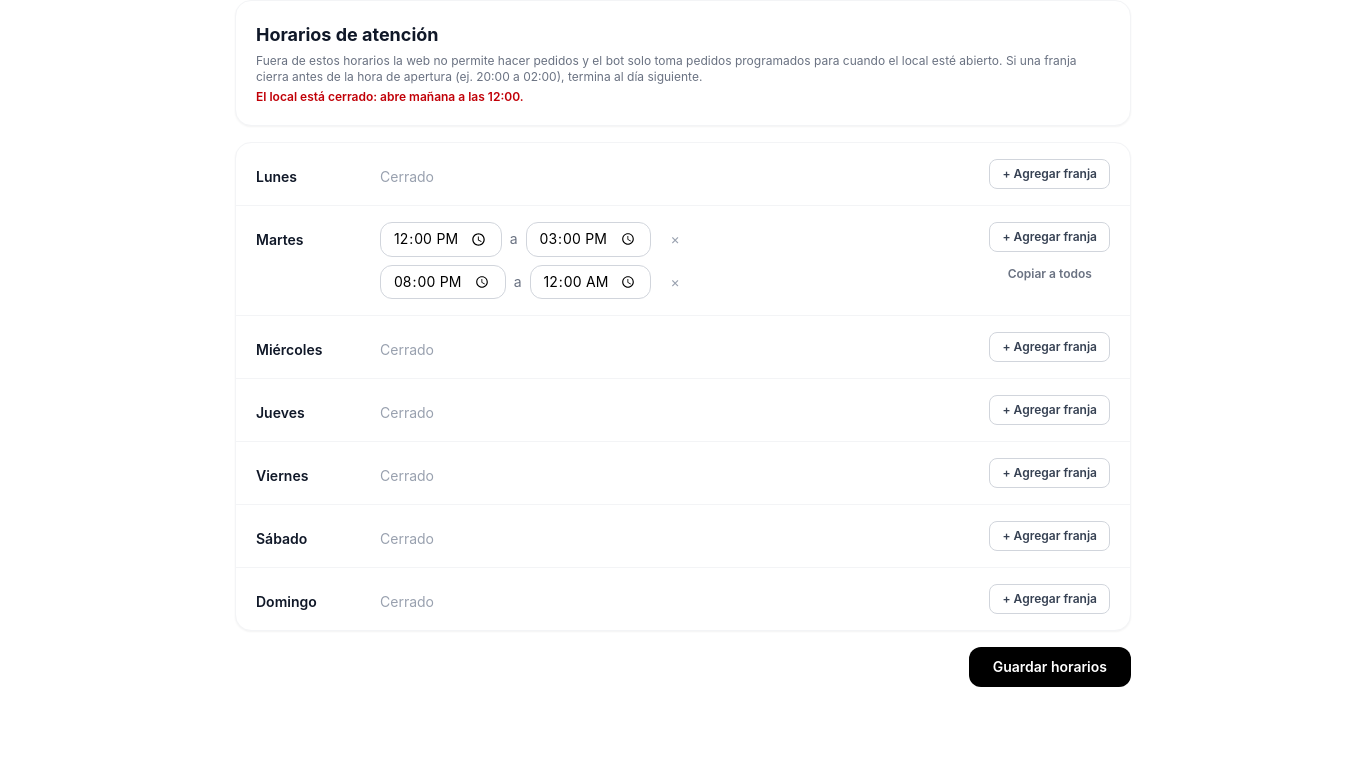
Test case: HorariosView › agrega, edita y quita franjas y guarda la semana completa
Expected: the element "Martes" is shown, [236,206,1130,316]
Click the button with aria-label "Agregar franja al viernes" at (1050, 473), box [990,458,1110,488]
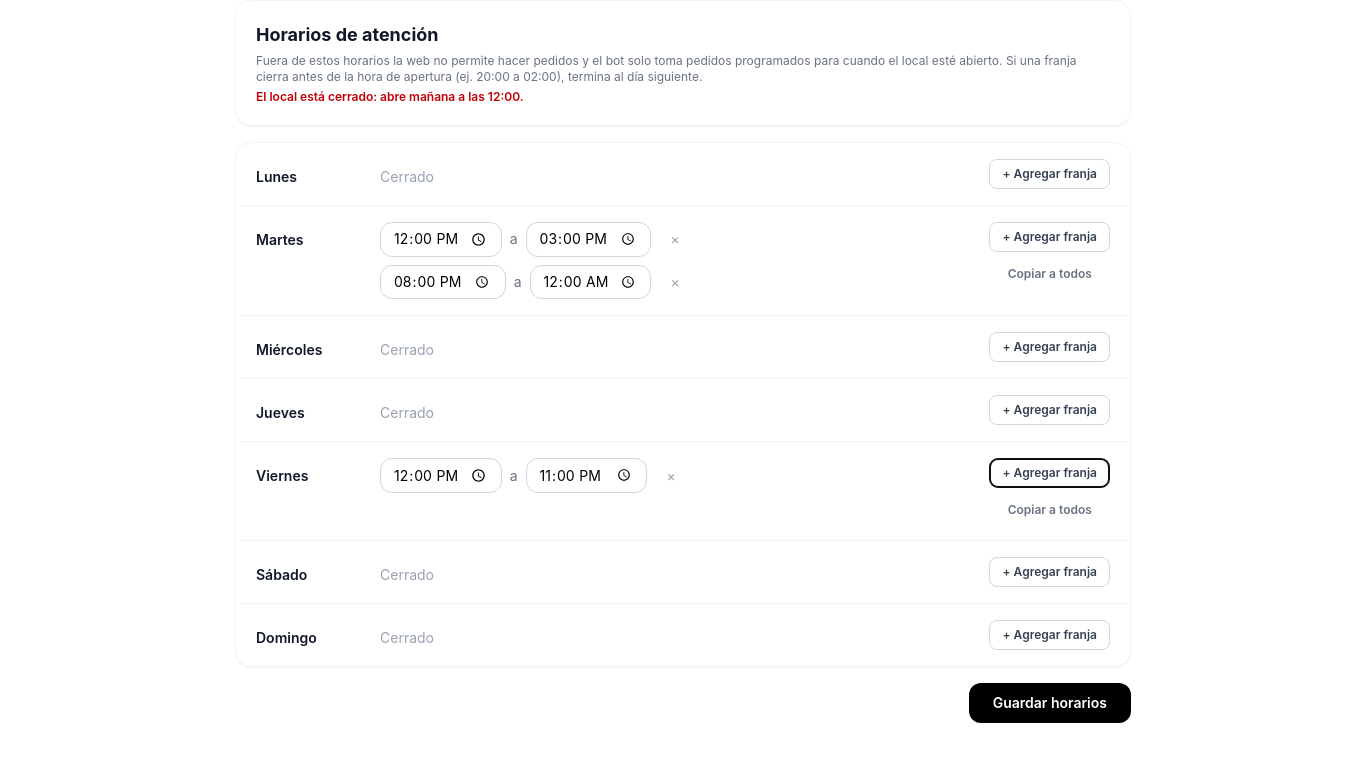
Replace the text in the time field named "Viernes: apertura de la franja 1" with "20:00" at (441, 476), box [380,458,502,493]
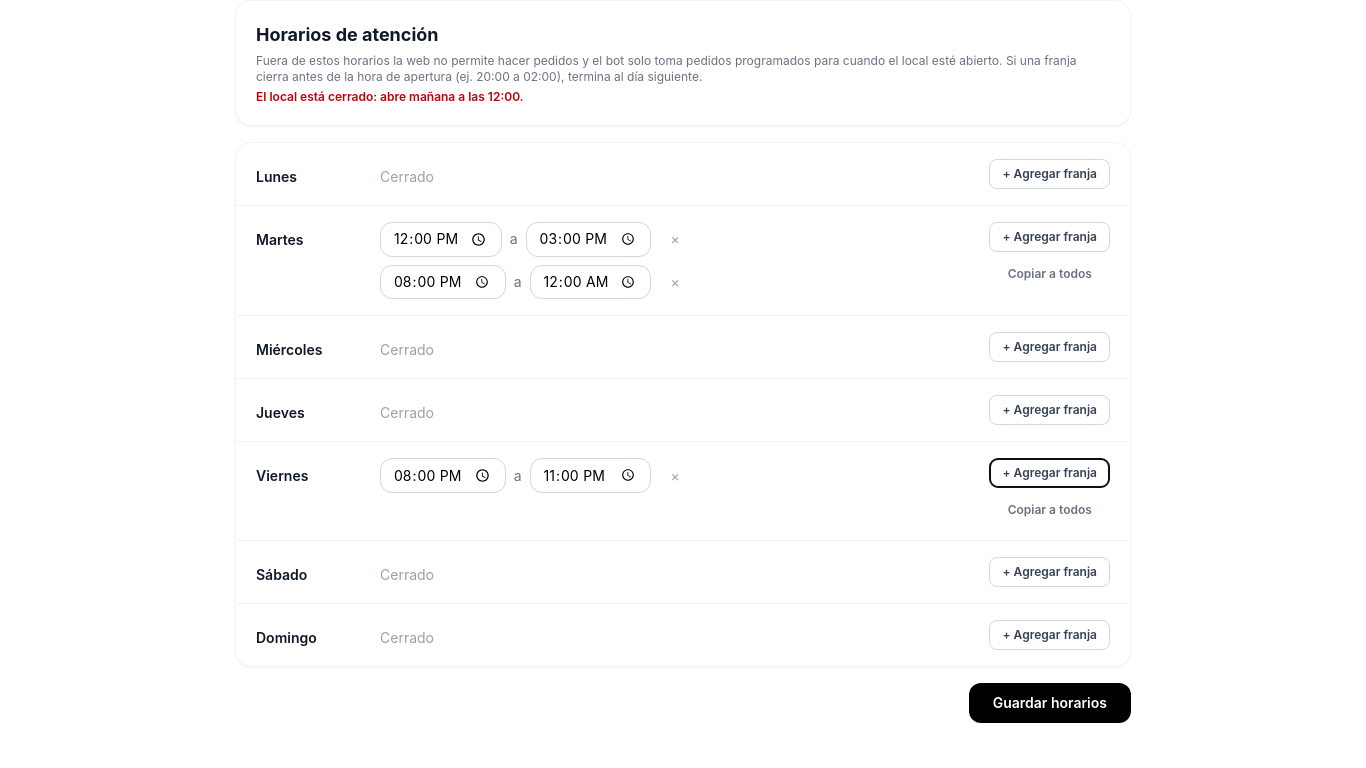
Replace the text in the time field named "Viernes: cierre de la franja 1" with "02:00" at (590, 476), box [530,458,651,493]
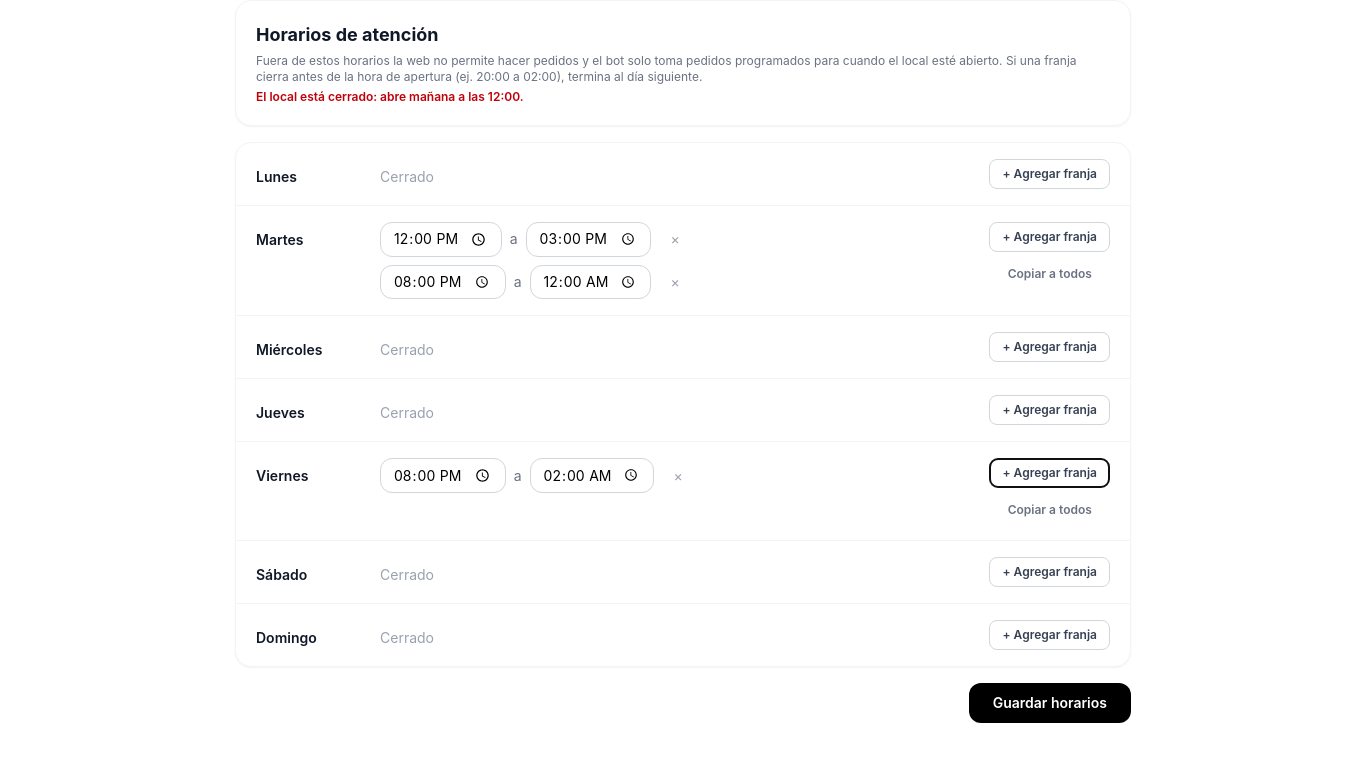
Click the button named "Quitar la franja 2 del martes" at (675, 282), box [659,266,691,298]
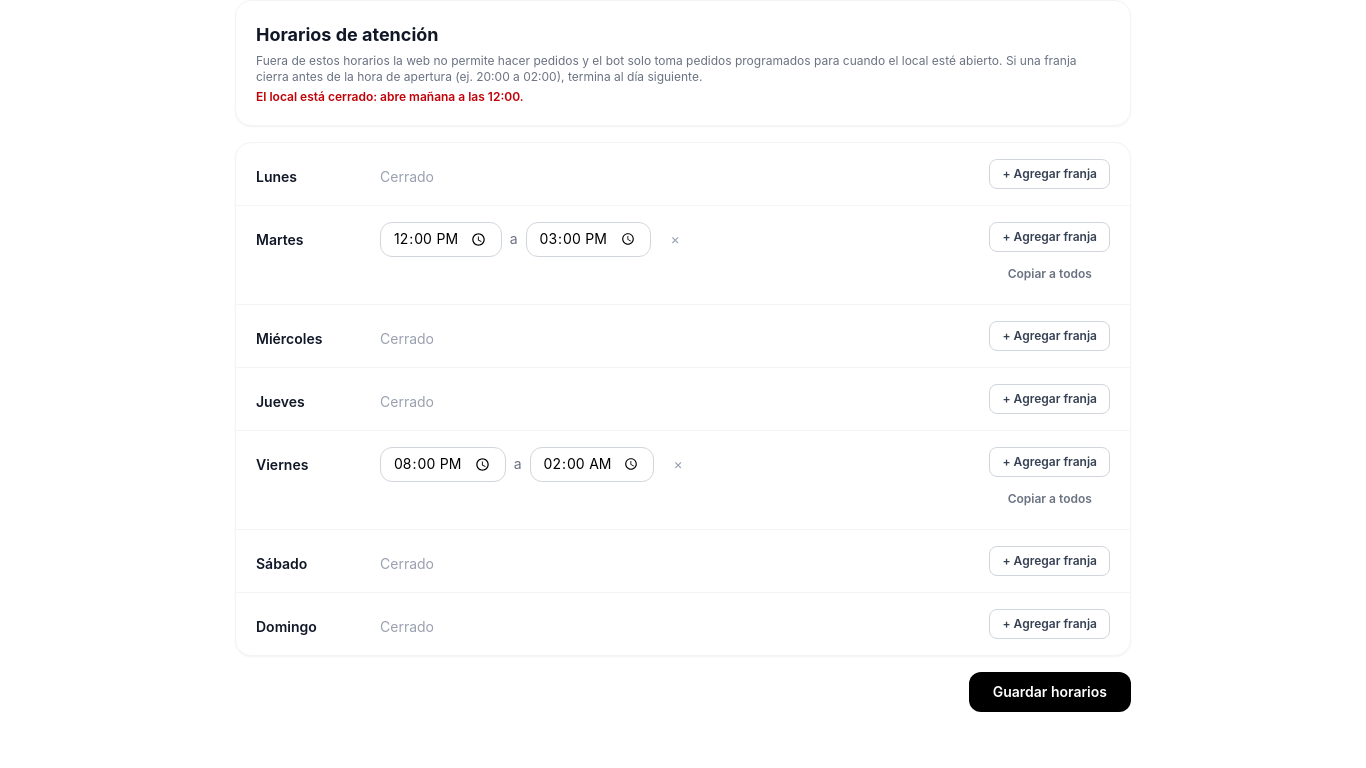
Click the button "Guardar horarios" at (1050, 692), box [969,672,1131,712]
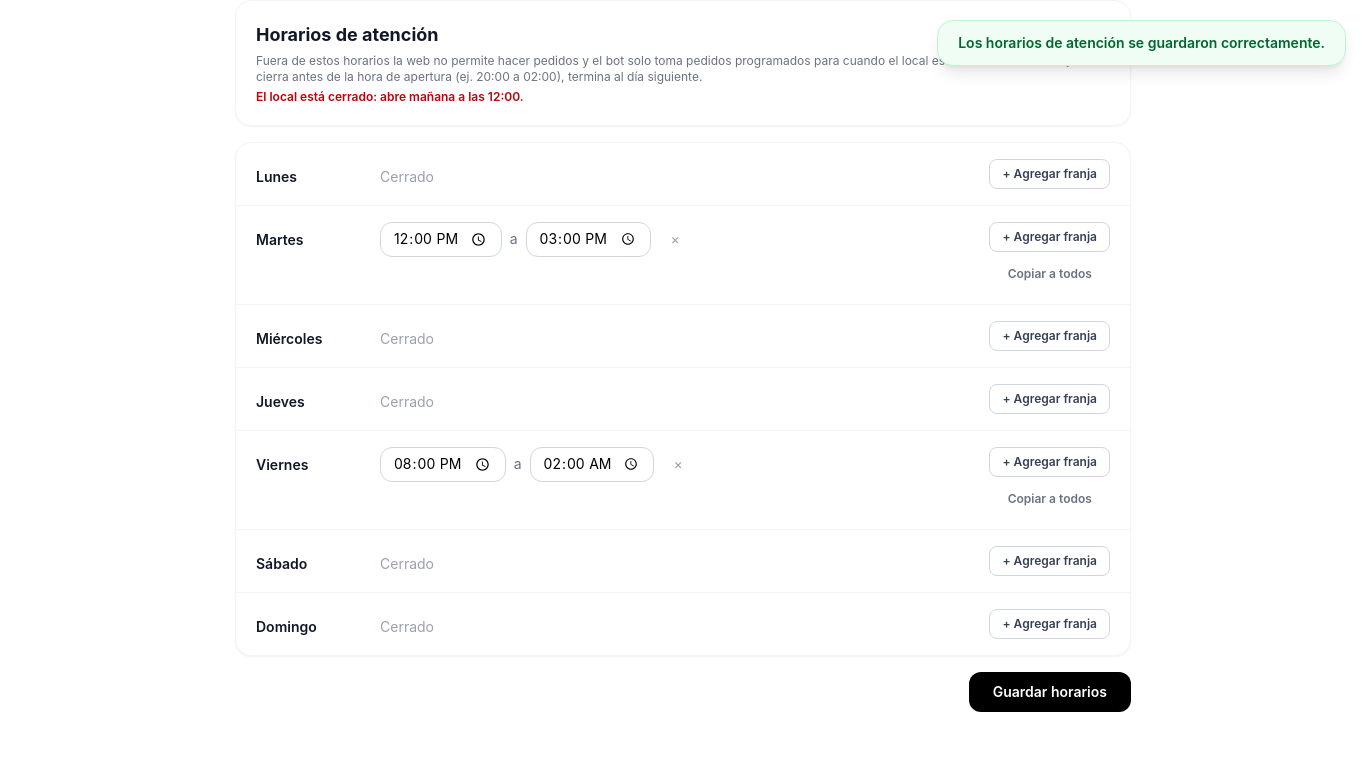
Now the text "Los horarios de atención se guardaron correctamente." is shown, box [937,20,1346,66]
